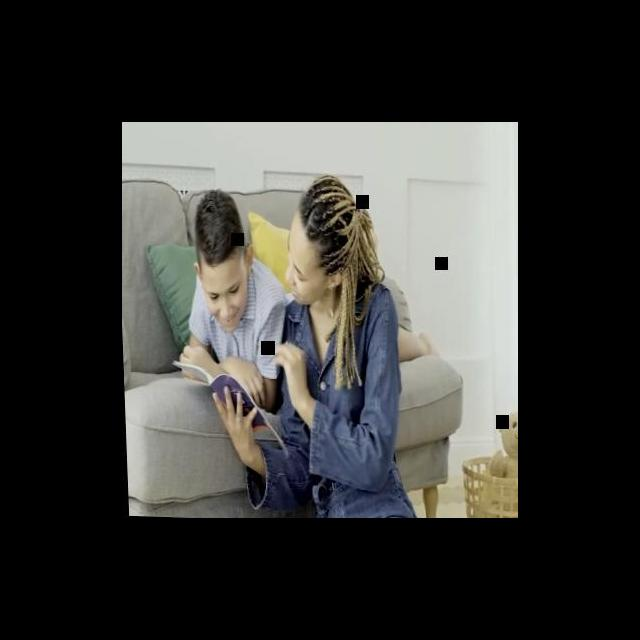female: (287, 168, 383, 307)
male: (170, 178, 254, 308)
